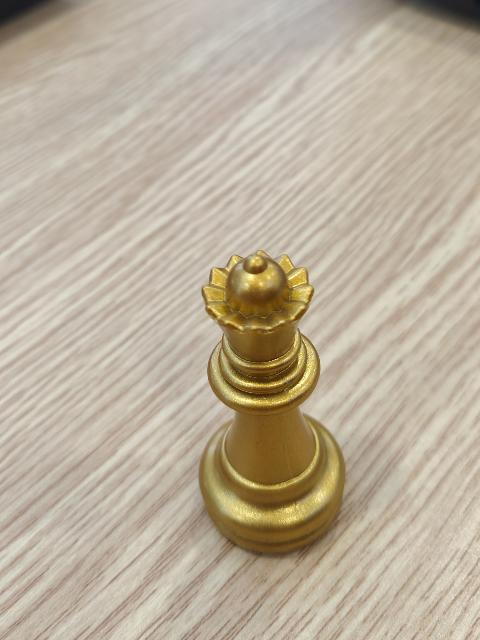black_queen: (197, 248, 344, 550)
